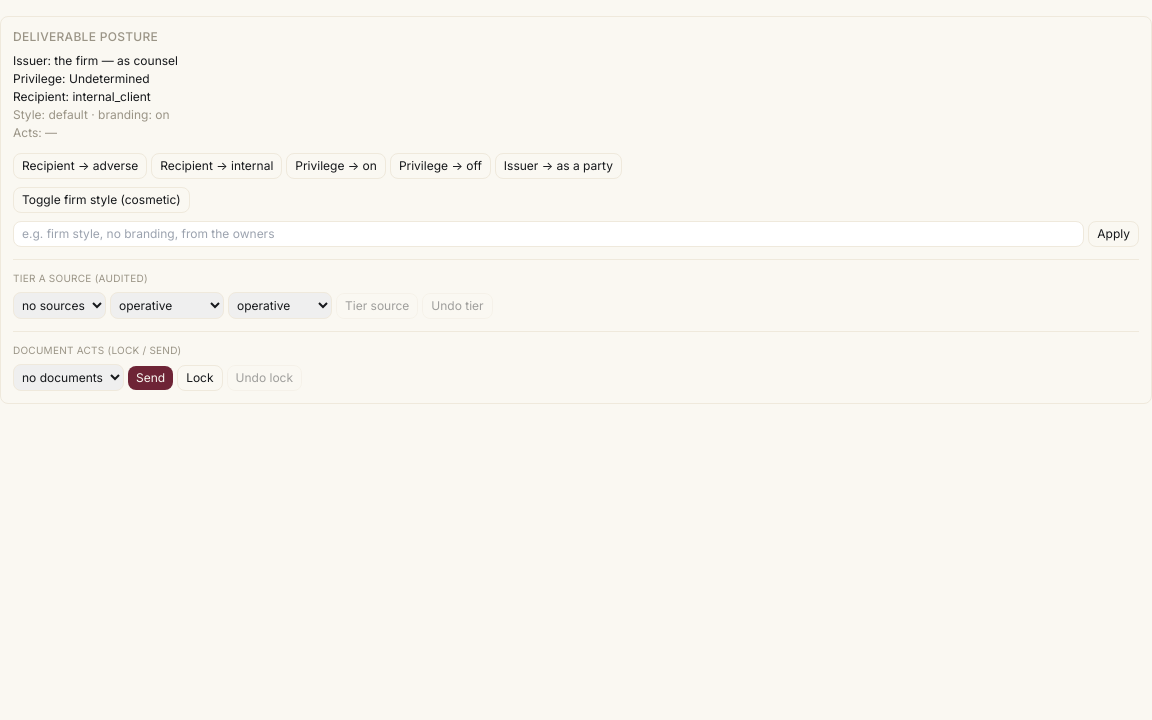
Test: ChatDeliverable — cosmetic / posture / send › the send egress check blocks a send to an adverse party with privilege undetermined
Click the button with test id "ctl-recipient-adverse": x=80, y=166 13,153 -> 147,179
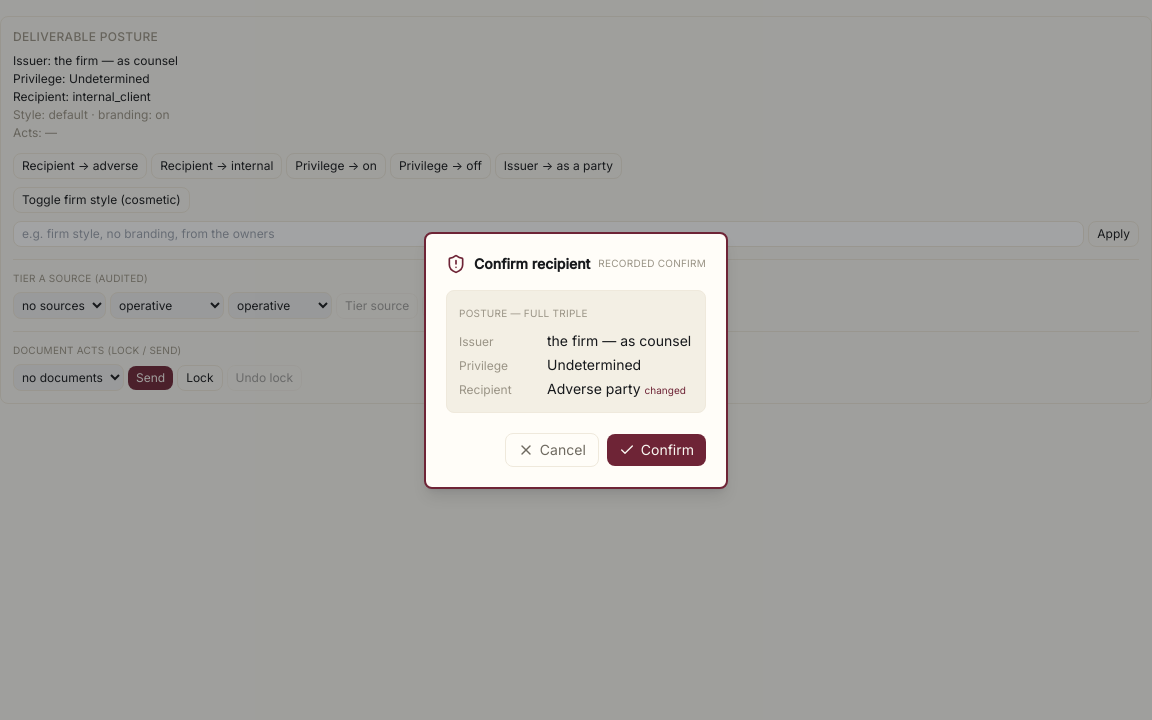
Click the button with test id "confirm-accept": x=656, y=450 607,434 -> 706,466
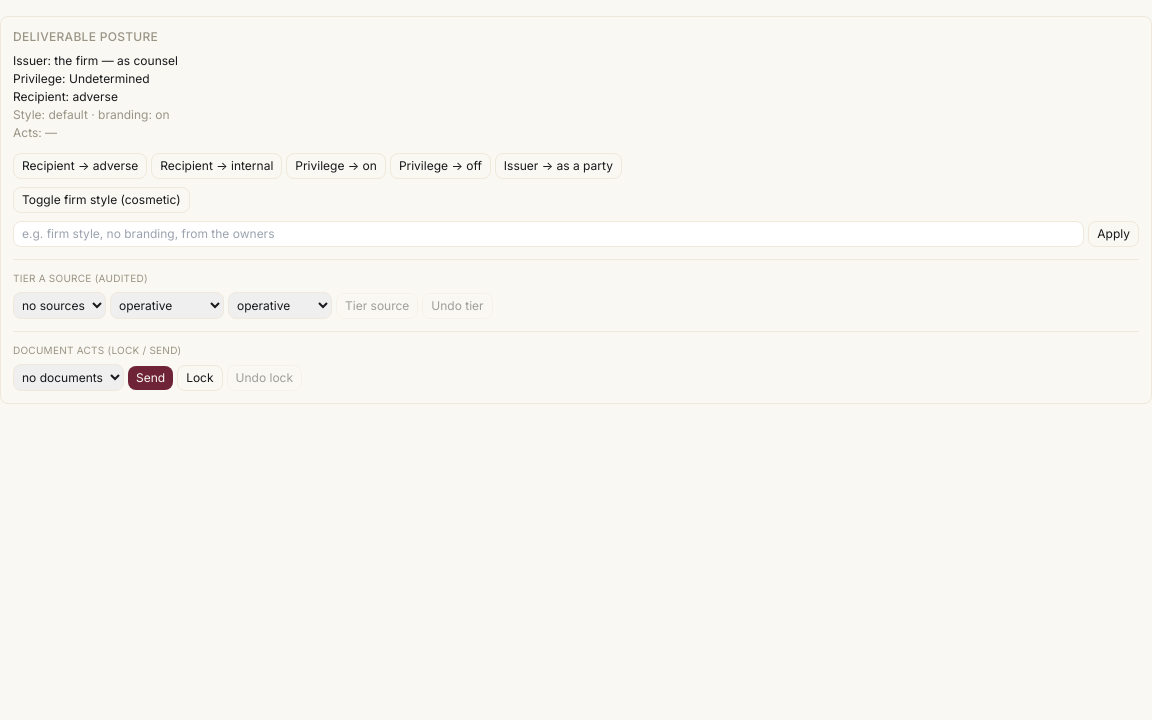
Result: the text with test id "dt-recipient" shows "adverse" at 72,89 -> 118,104
Click the button with test id "act-send": x=151, y=378 128,366 -> 173,390
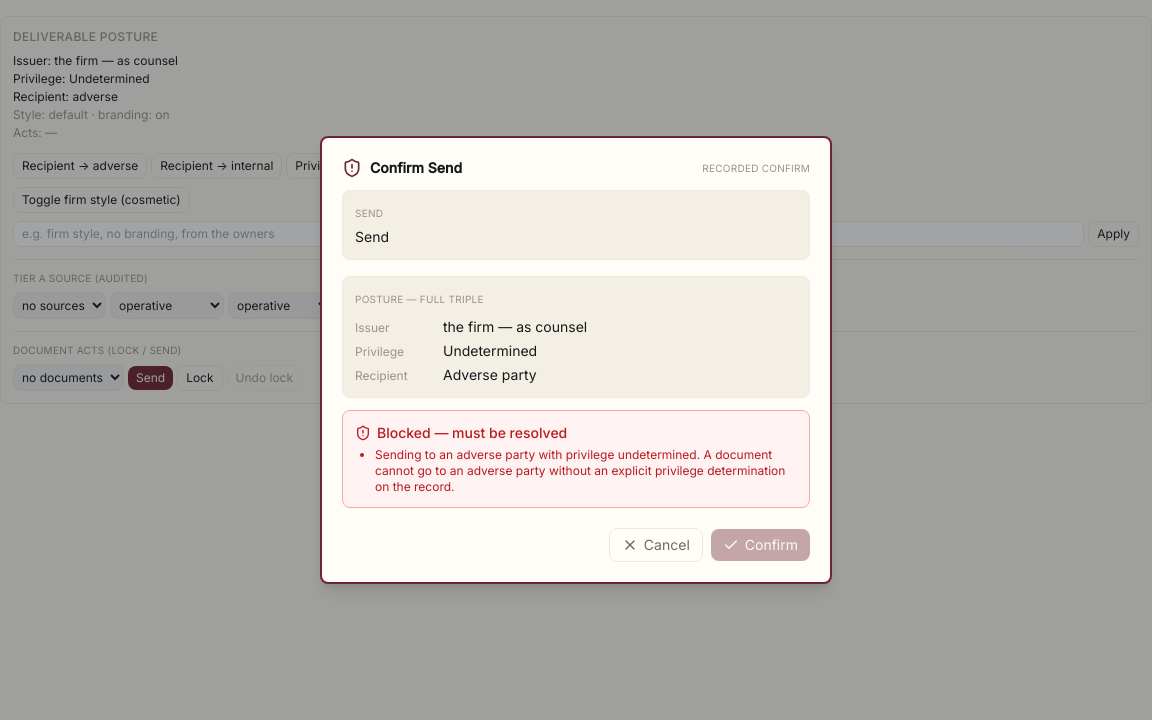
Result: the element with test id "confirm-overlay" is shown
Result: the element with test id "confirm-hard" is shown at 342,410 -> 810,508
Result: the button with test id "confirm-accept" is disabled at 711,529 -> 810,561
